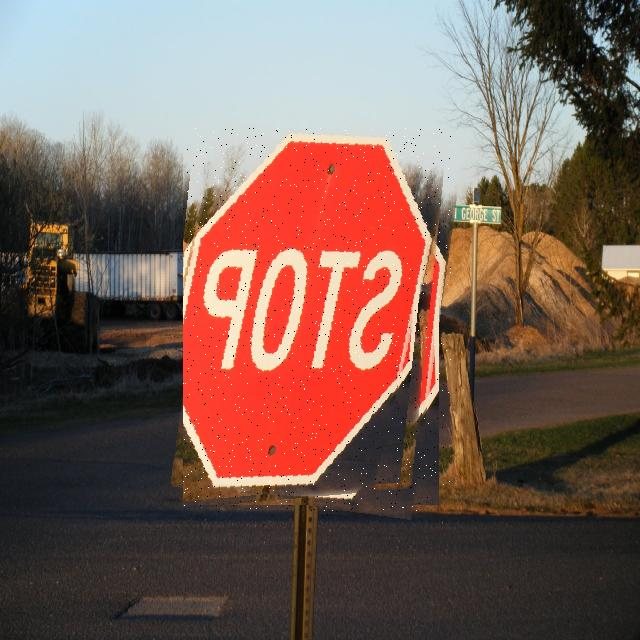stop: (183, 128, 451, 512)
